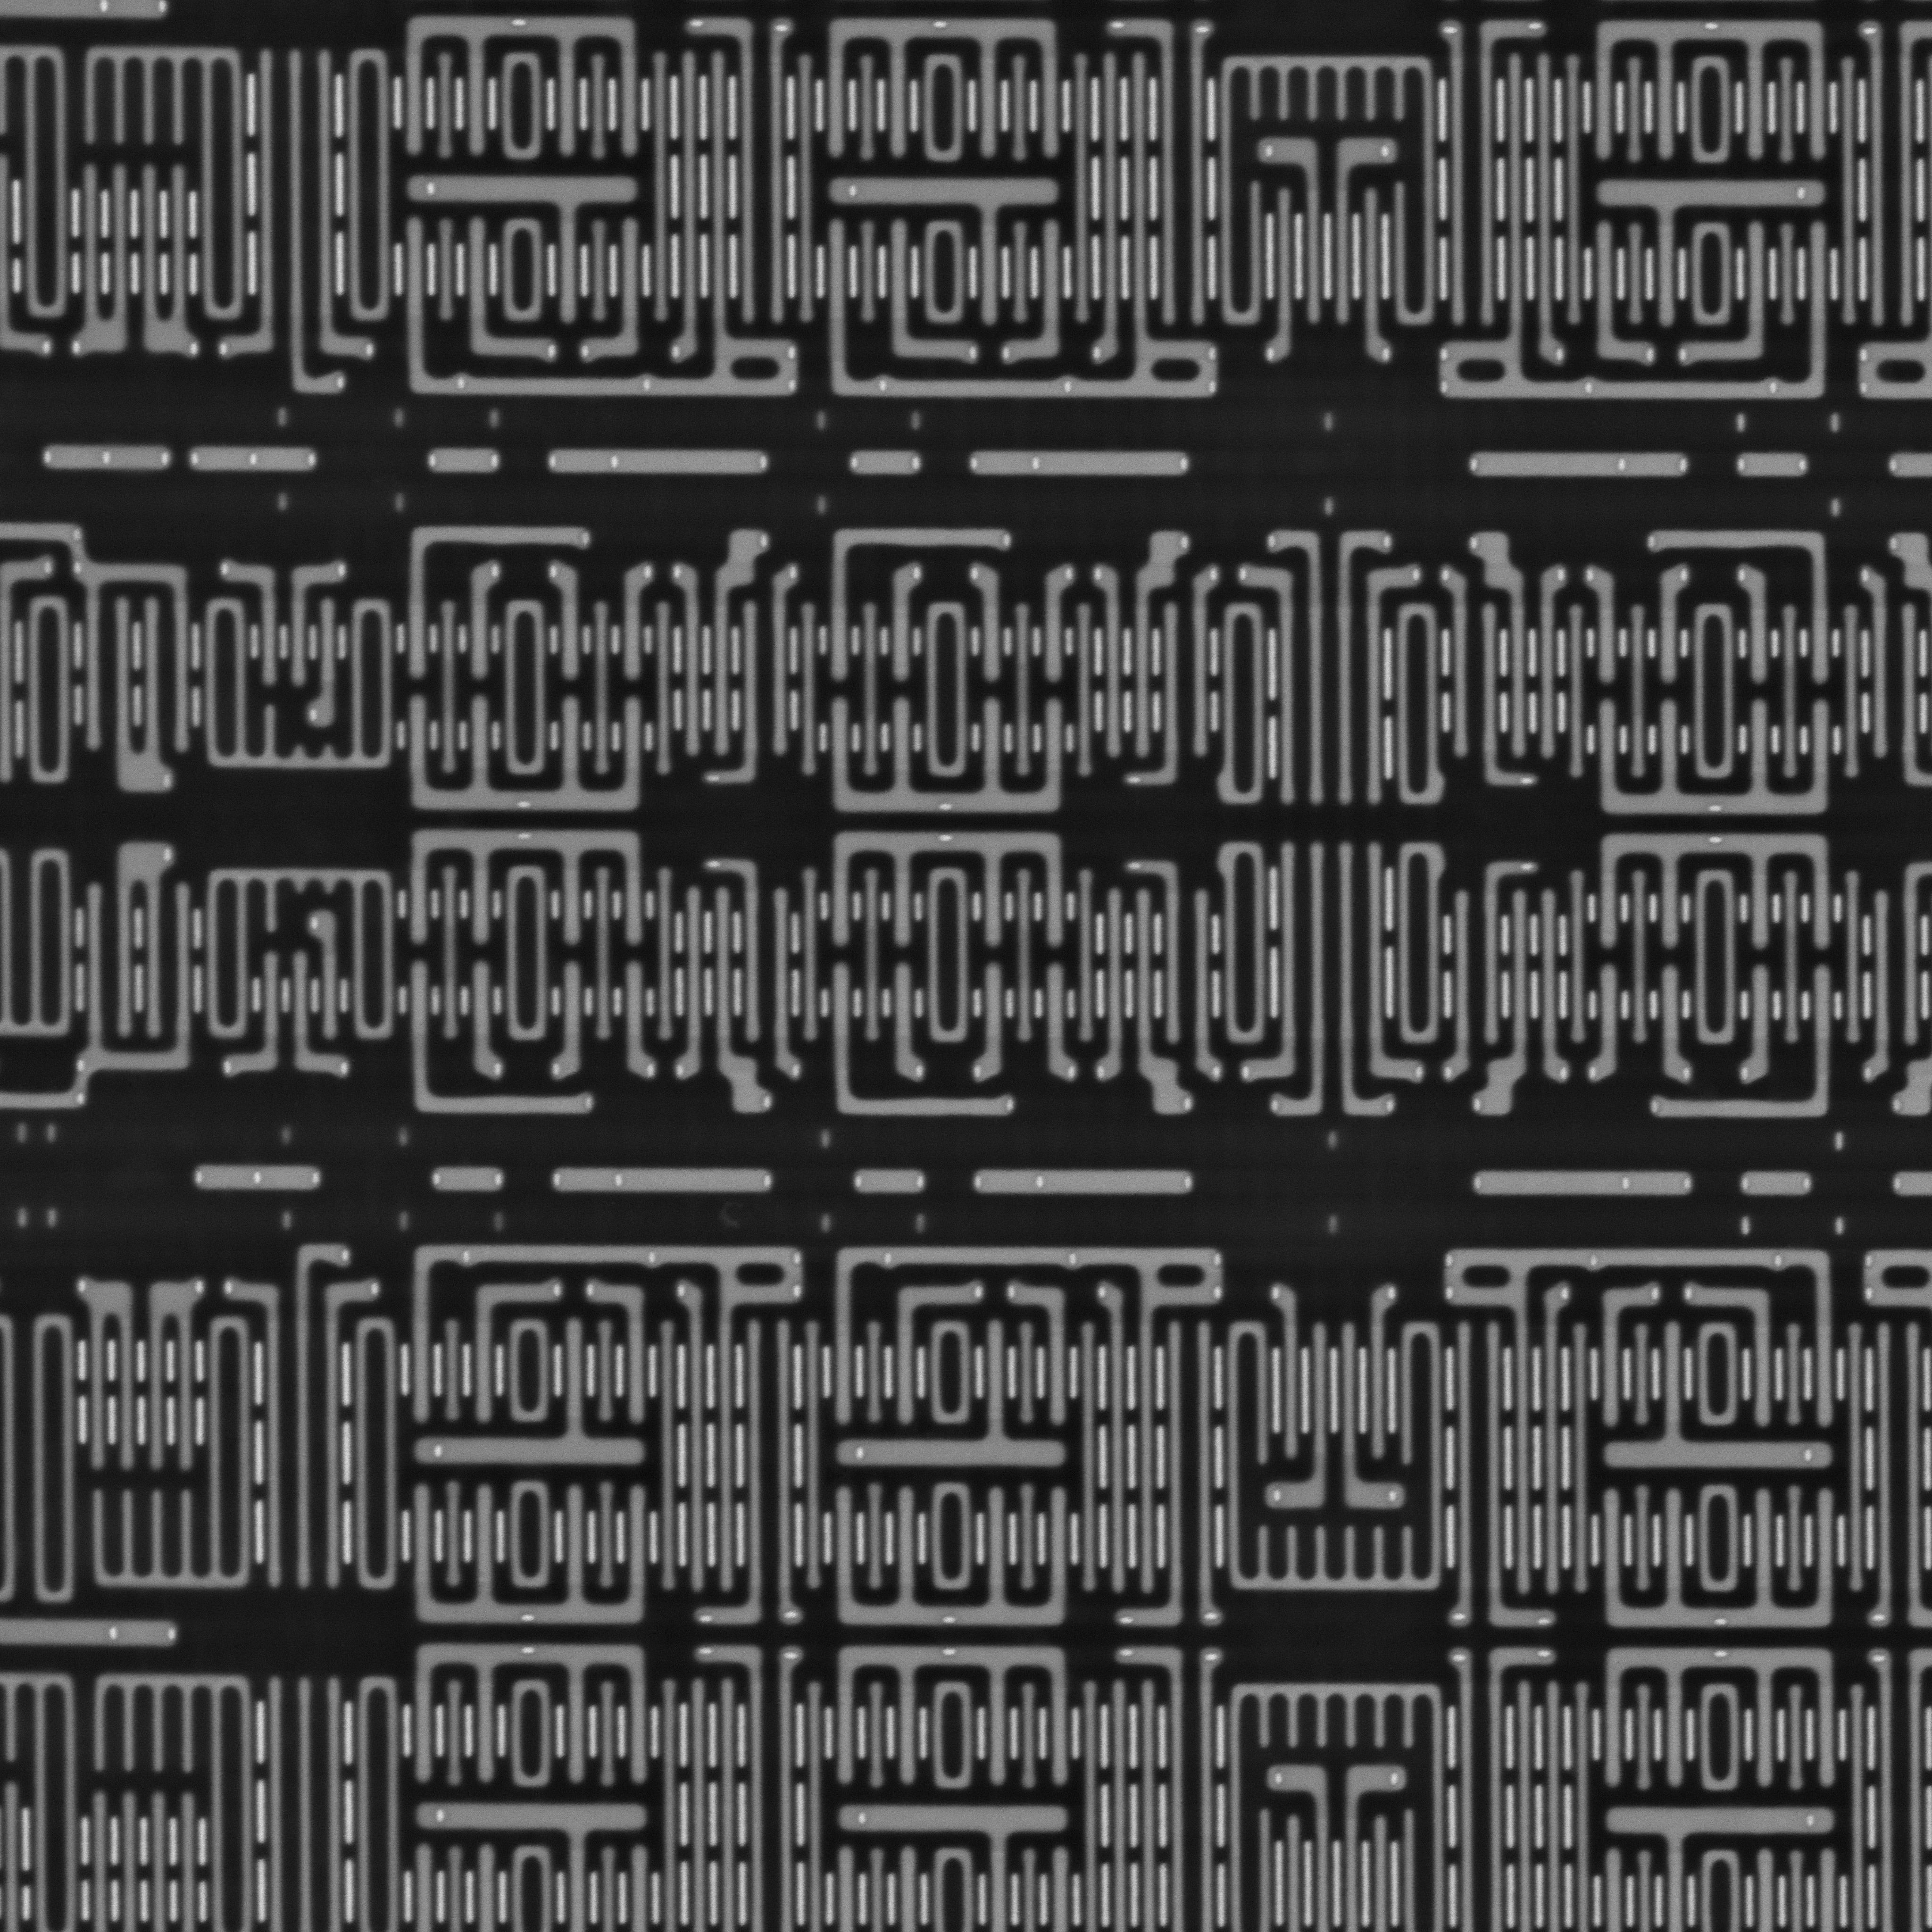doubleGate: (76, 1272, 147, 1481), (136, 1274, 205, 1477)
multiGate: (395, 1635, 658, 1794), (823, 1637, 1081, 1796), (810, 12, 1074, 166), (1576, 18, 1838, 172), (1591, 1645, 1851, 1798), (389, 16, 649, 168), (1589, 1479, 1849, 1628), (817, 828, 1081, 957), (396, 821, 656, 948), (1585, 835, 1847, 957)
publicGate: (216, 1238, 384, 1594), (1235, 840, 1426, 1127), (1237, 524, 1426, 807), (1104, 12, 1223, 329), (73, 837, 203, 1077)
resistor: (1468, 446, 1702, 485), (968, 1166, 1198, 1205), (550, 1166, 778, 1201), (970, 448, 1192, 479), (548, 446, 771, 474), (1474, 1171, 1697, 1198), (189, 442, 322, 478), (189, 1166, 327, 1196), (37, 442, 172, 471), (1737, 1169, 1821, 1200), (851, 1166, 929, 1198), (426, 446, 506, 476), (1736, 449, 1813, 478), (844, 451, 924, 472), (432, 1166, 506, 1187)
singleGate: (1468, 878, 1541, 1129), (701, 874, 777, 1113), (464, 1267, 568, 1438), (671, 1279, 725, 1596), (699, 522, 771, 759), (1467, 525, 1537, 759), (881, 1274, 985, 1426), (1681, 1281, 1785, 1433), (1093, 1277, 1141, 1599), (1530, 1276, 1573, 1594), (584, 1281, 658, 1445), (1003, 1279, 1081, 1431), (1591, 1286, 1667, 1440), (1522, 540, 1569, 775), (1092, 559, 1139, 766), (280, 948, 352, 1083), (1357, 1254, 1401, 1472), (223, 950, 292, 1085), (669, 879, 713, 1086), (1529, 883, 1573, 1090), (1269, 1276, 1309, 1468), (1645, 561, 1695, 709), (964, 955, 1016, 1095), (964, 559, 1017, 694), (1734, 563, 1782, 708), (1028, 556, 1076, 697), (881, 955, 931, 1088), (879, 554, 925, 694), (1033, 961, 1079, 1097), (550, 955, 598, 1086), (306, 906, 350, 1046), (1585, 959, 1633, 1088), (1647, 964, 1697, 1088), (1583, 559, 1629, 692), (458, 957, 506, 1083), (614, 962, 658, 1088), (1739, 962, 1785, 1083)
